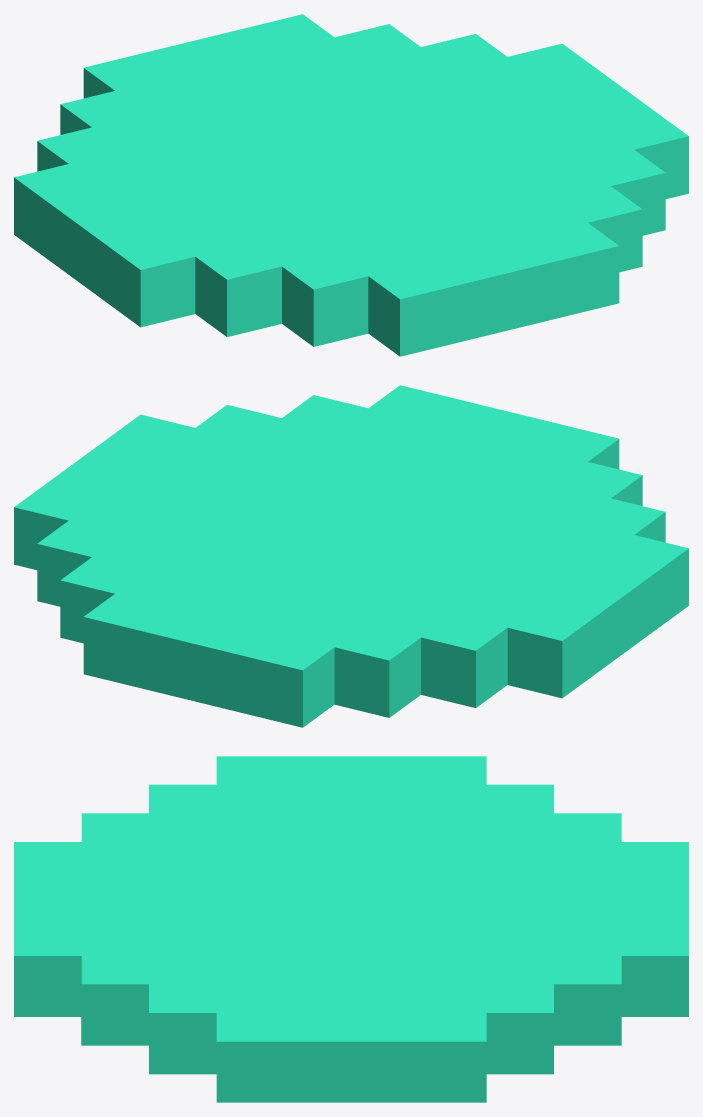
The model's file is trainLineSideL.fbx.
3 views of the same model, one above another, from view 1: azimuth 30°, elevation 25°; view 2: azimuth 150°, elevation 25°; view 3: azimuth 270°, elevation 25° (orthographic). The views are drawn at different scales.
Parts seen in each view (by area): view 1: trainLineSide2; view 2: trainLineSide2; view 3: trainLineSide2.
Boxes of the visible parts, <box> form: trainLineSide2: <box>14,14,688,356</box>; trainLineSide2: <box>14,385,688,727</box>; trainLineSide2: <box>14,756,688,1102</box>.
Bounding box in the file's own units: 100 × 10 × 100.
Materials: 1 (1 with a texture image).
